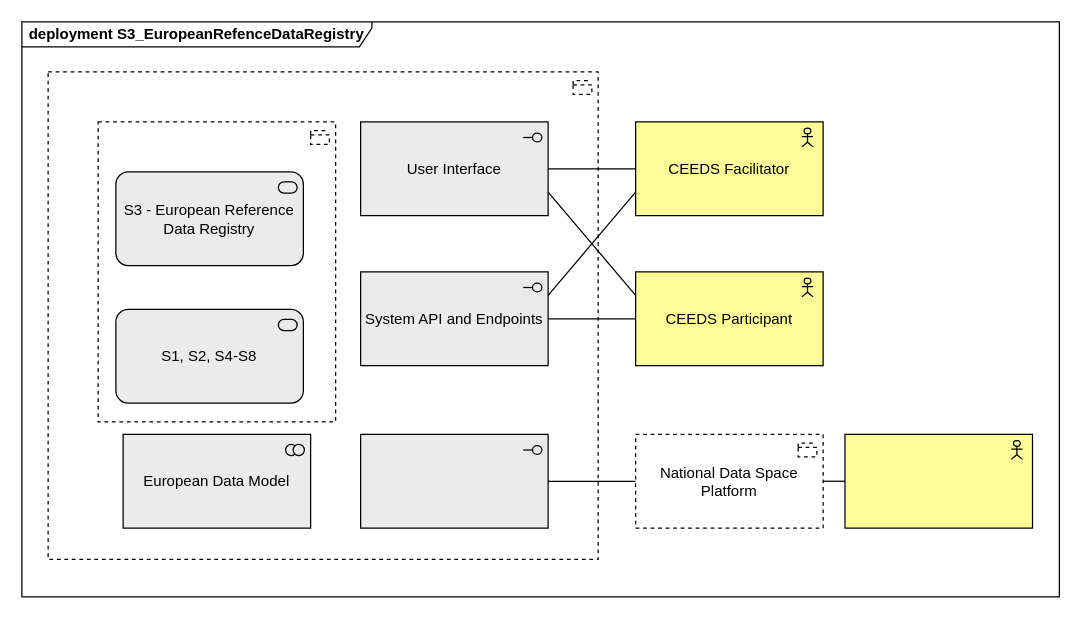
Image size: 1081x619. Some labels were removed from this diagram. The shapes that lost their labels are listed below. From the top down, each one's box as (x1, y1, x2, y2) in pixels, then its label:
(97, 121, 336, 422): Services
(47, 71, 598, 559): CEEDS Platform
(359, 433, 548, 528): National Data Platform Interface
(844, 433, 1032, 528): National Data Space Facilitator(s)
